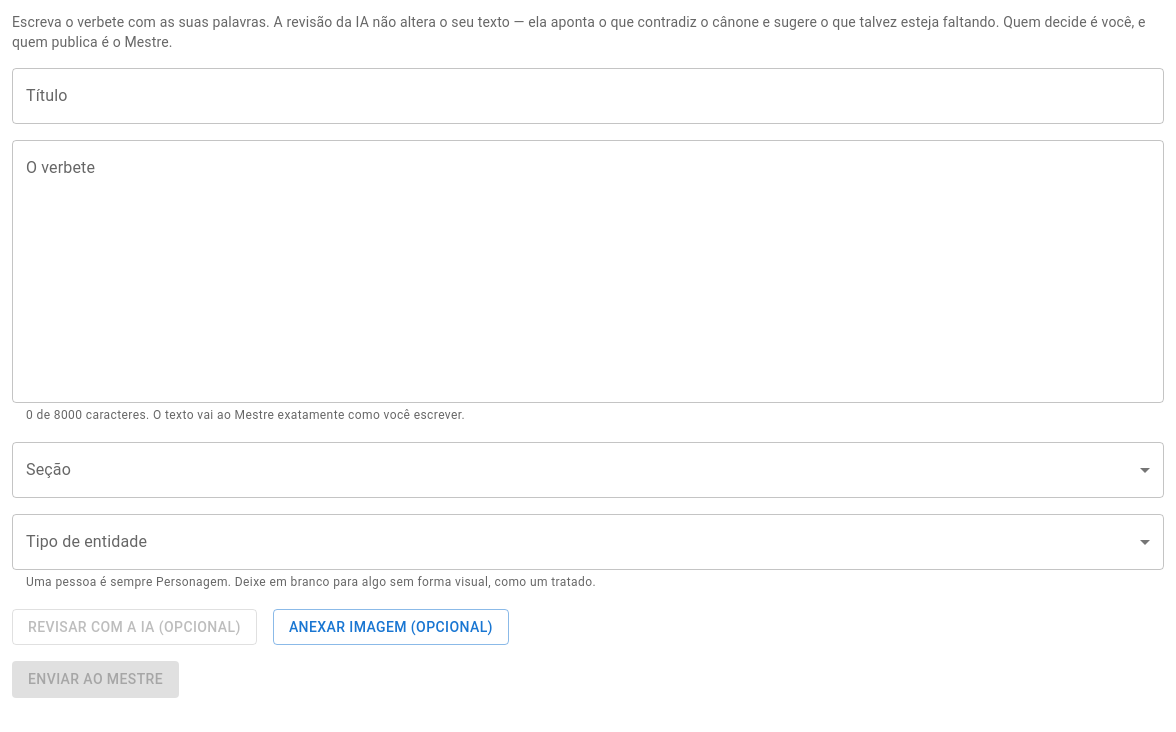
Test: o que impede o envio › exige a seção, e diz isso em vez de só desabilitar
This screenshot has width=1176, height=732.
Type "Sera de Vargen" into the field labelled "Título" at (588, 96), box left=12, top=68, right=1164, bottom=124
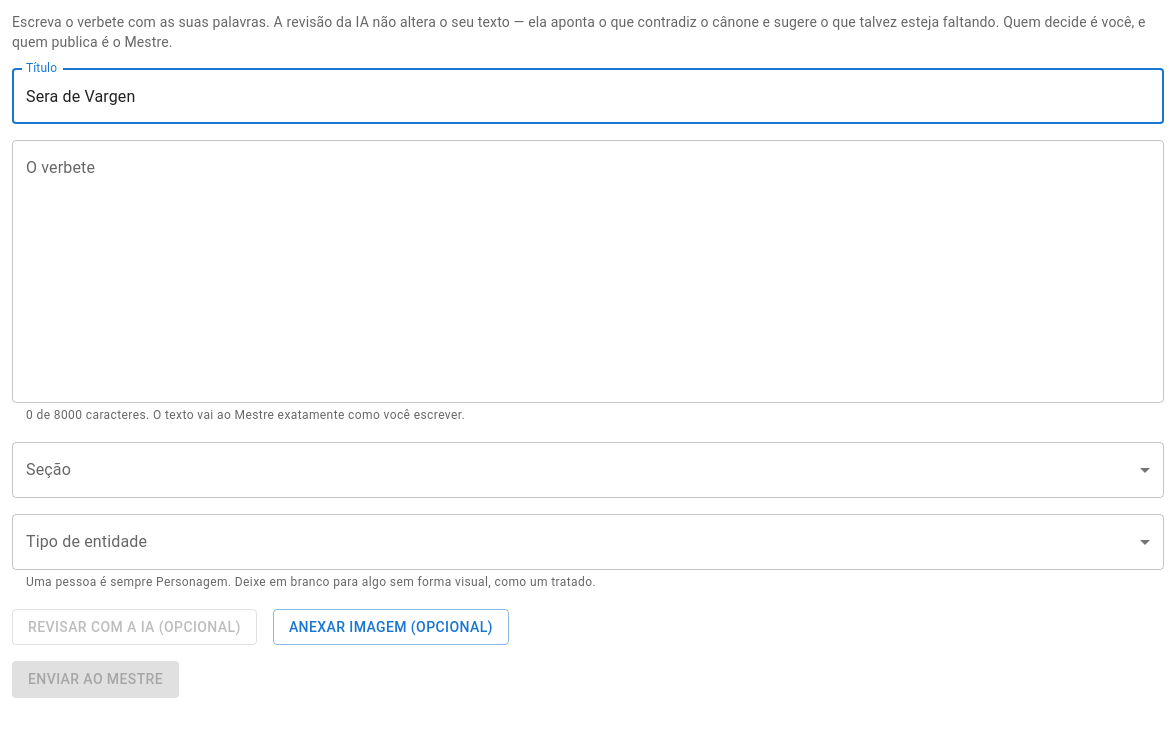
Type "Batedora das fronteiras do Norte, conhecida por atravessar o Muro dos Ausentes sozinha em pleno inverno." into the text box labelled "O verbete" at (588, 272), box left=26, top=156, right=1150, bottom=386
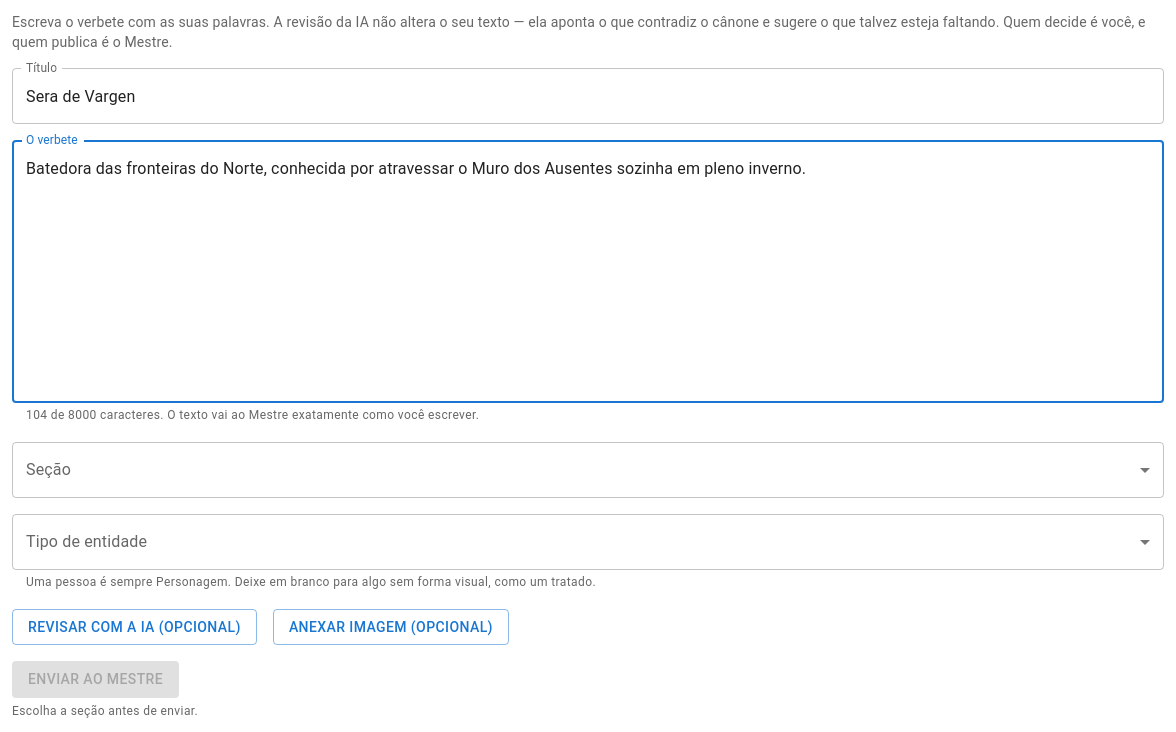
Expected: the button "Enviar ao Mestre" is disabled, left=12, top=661, right=179, bottom=698
Expected: the text "Escolha a seção antes de enviar." is shown, left=12, top=704, right=198, bottom=718
